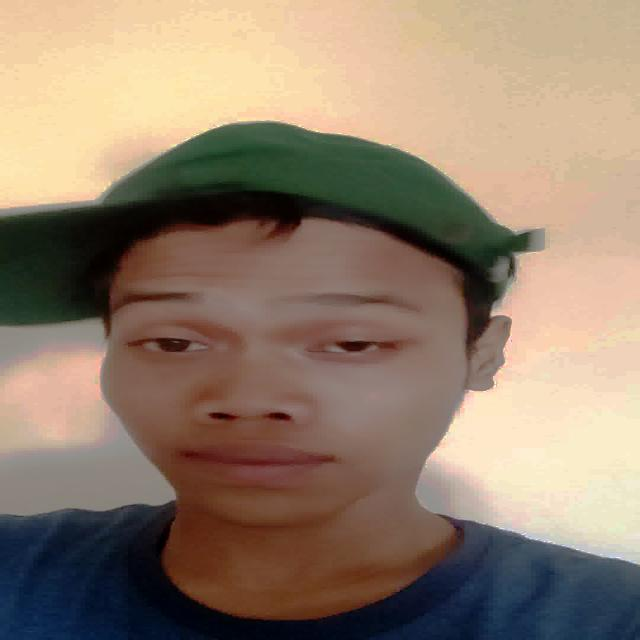TOPI: (0, 107, 535, 314)
